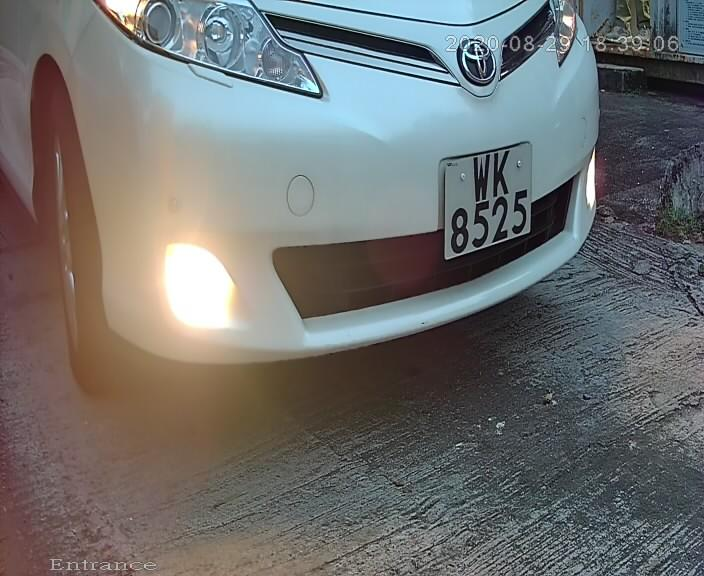License Plate: (431, 137, 541, 265)
